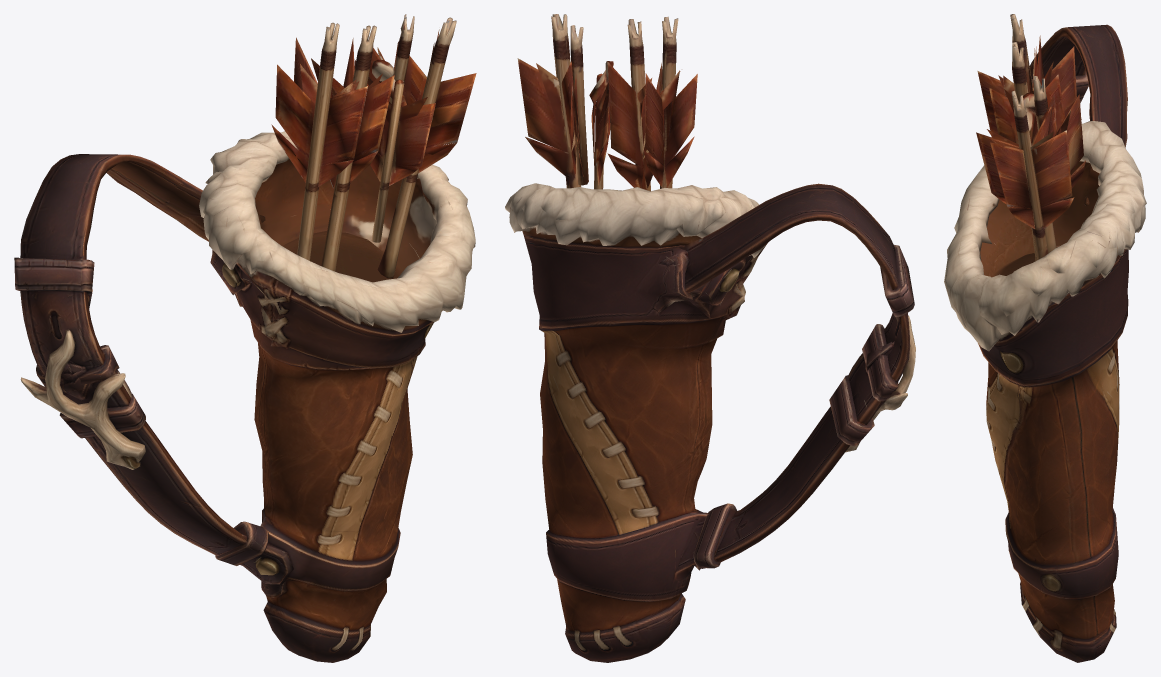
The model's file is rl-quiver-hunter.glb.
3 renders of one model, left to right at view 1: azimuth 30°, elevation 25°; view 2: azimuth 150°, elevation 25°; view 3: azimuth 270°, elevation 25°, orthographic. The views are drawn at different scales.
Visible parts, largest first — view 1: Quiver; view 2: Quiver; view 3: Quiver.
Part boxes in pixels (x1,y1,x2,y2): Quiver: (14,14,476,662); Quiver: (505,14,915,662); Quiver: (944,14,1146,662).
Size of the model in its own units: 0.6514 by 0.9521 by 0.2817.
1 material, 1 textured.
